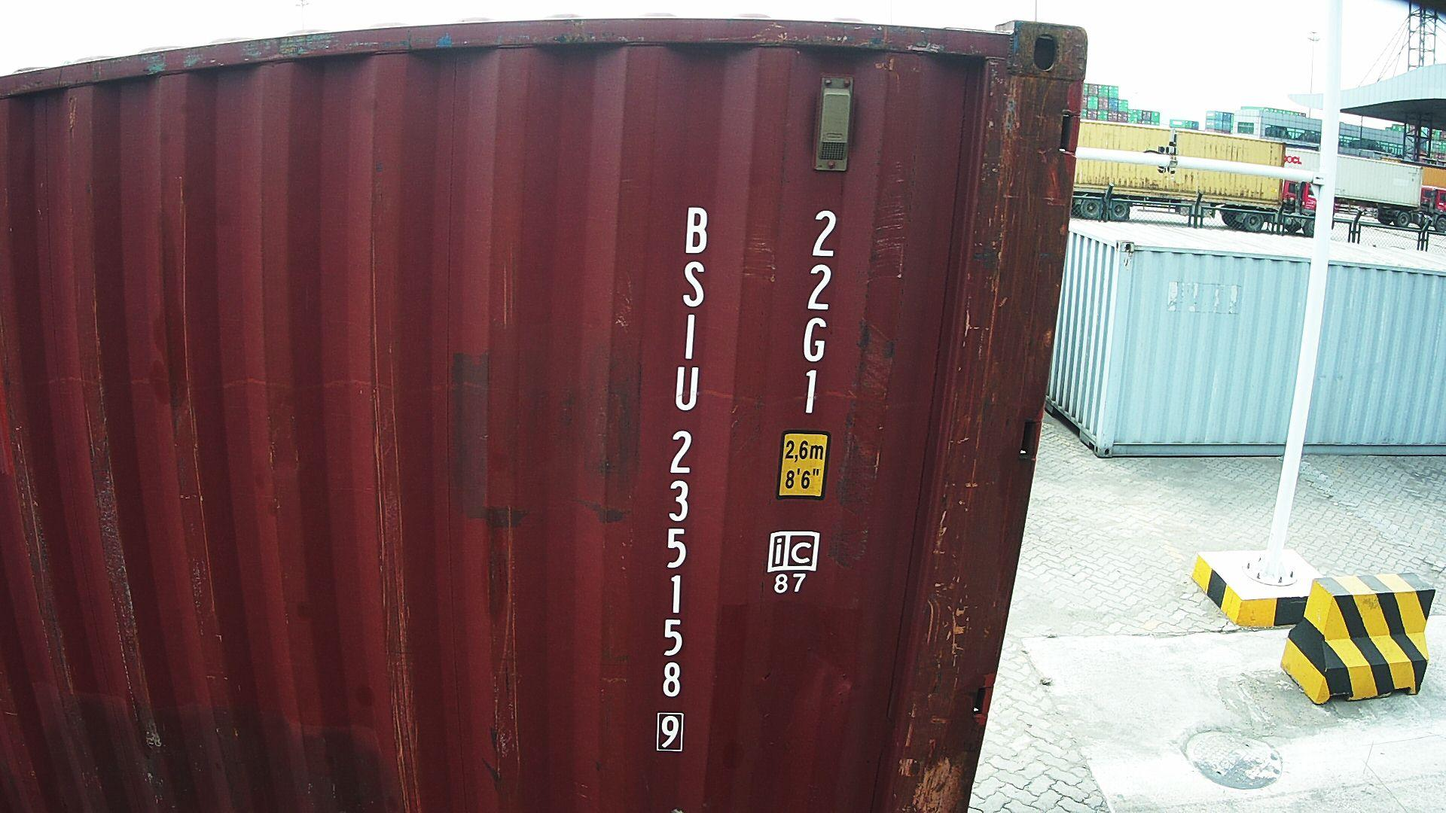container-numbers: (649, 200, 712, 755), (791, 204, 841, 420)
